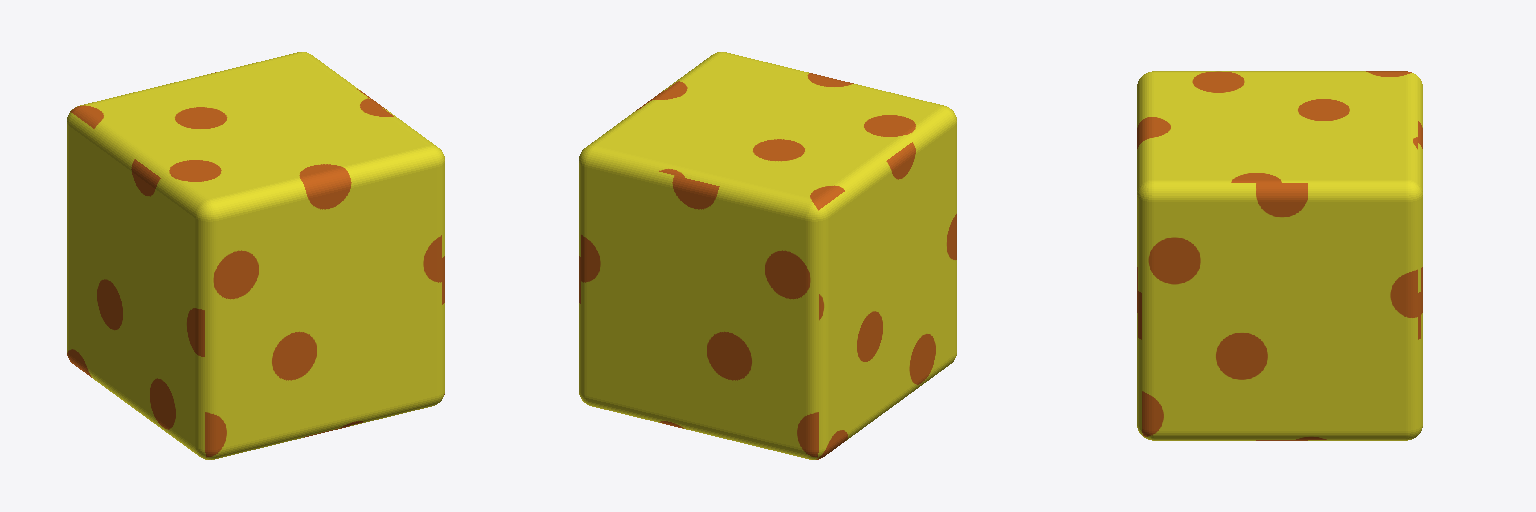
The picture shows the model from 3 angles: view 1: azimuth 30°, elevation 25°; view 2: azimuth 150°, elevation 25°; view 3: azimuth 270°, elevation 25°; orthographic projection.
Parts seen in each view (by area): view 1: Cube; view 2: Cube; view 3: Cube.
Boxes of the visible parts, x1=… form: Cube: x1=67, y1=52, x2=444, y2=459; Cube: x1=579, y1=52, x2=956, y2=459; Cube: x1=1137, y1=71, x2=1422, y2=440.
Size of the model in its own units: 2 by 2 by 2.
1 materials, 1 textured.